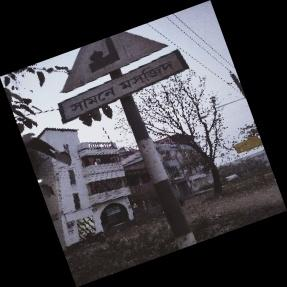Mosque in front: (57, 32, 185, 124)
